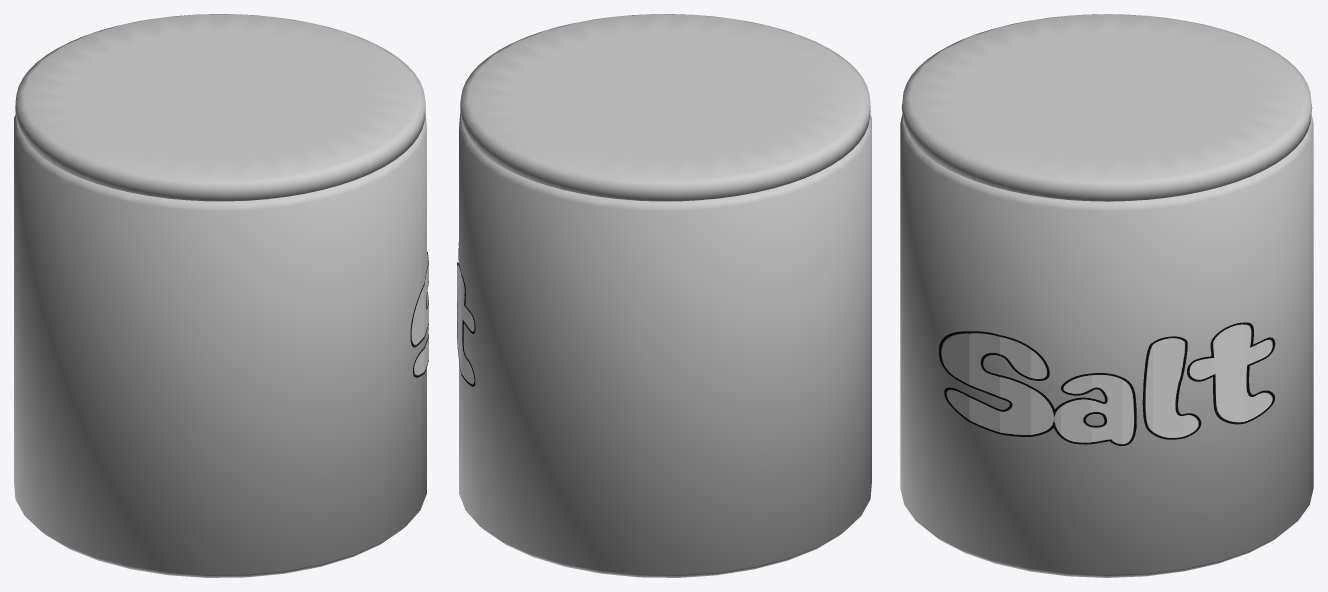
File: salt.fbx
3 views of the same model, side by side, from view 1: azimuth 30°, elevation 25°; view 2: azimuth 150°, elevation 25°; view 3: azimuth 270°, elevation 25° (orthographic).
Parts seen in each view (by area): view 1: Salt.001; view 2: Salt.001; view 3: Salt.001.
Boxes of the visible parts, x1,y1,x2,y2 form: Salt.001: (14, 14, 428, 577); Salt.001: (457, 14, 871, 577); Salt.001: (900, 14, 1313, 577).
Size of the model in its own units: 20.05 by 21.15 by 20.
